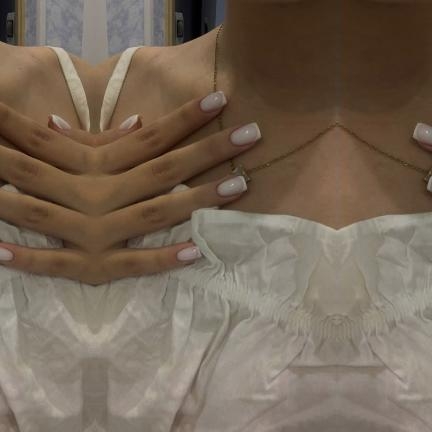Nail: (230, 123, 261, 146), (216, 176, 247, 198), (200, 90, 227, 112), (412, 123, 432, 146), (176, 246, 202, 261), (117, 114, 139, 131), (49, 114, 71, 131), (0, 247, 12, 261), (427, 176, 432, 192)
